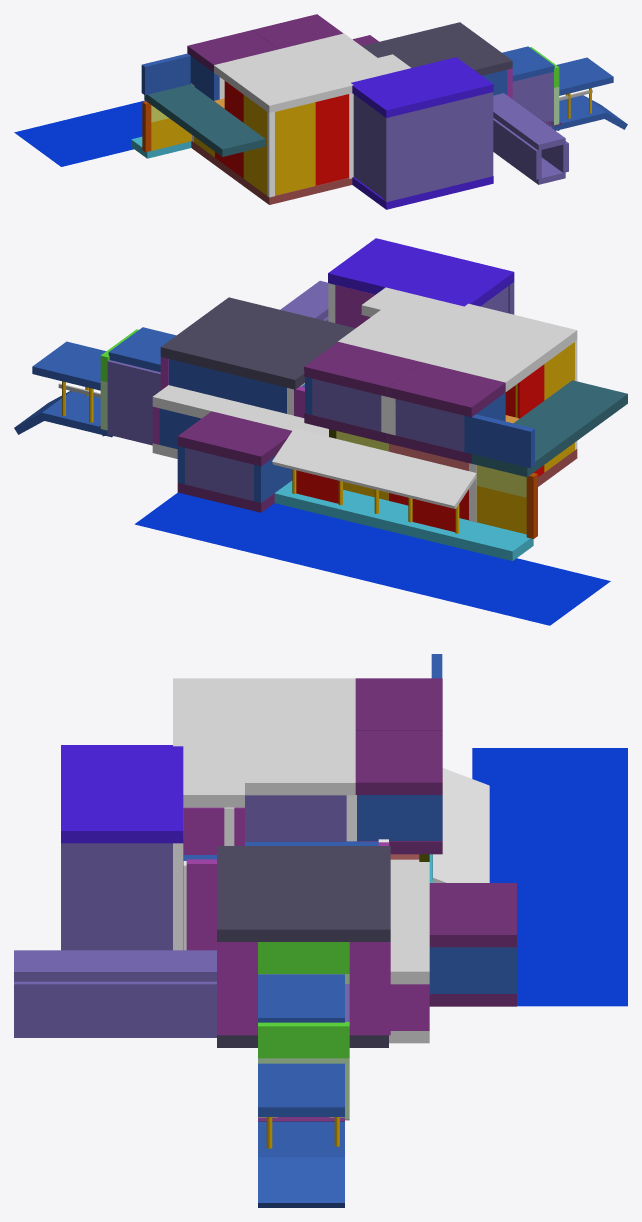
File: Blocky_MainRoomV2.fbx
3 renders of one model, top to bottom at view 1: azimuth 30°, elevation 25°; view 2: azimuth 150°, elevation 25°; view 3: azimuth 270°, elevation 25°, orthographic. The views are drawn at different scales.
Visible parts, largest first — view 1: Cube.630, Cube.638, Plane.007, Cube.286, Cube.421, Cube.445, Cube.444, Cube.633, Cube.635, Cube.637, MUR_3.017, Cube.477 (+38 smaller); view 2: Plane.007, Cube.630, Cube.421, Cube.256, Cube.638, Cube.247, Cube.286, Cube.445, Cube.409, Cube.444, Cube.448, MUR_3.017 (+24 smaller); view 3: Plane.007, Cube.630, Cube.421, Cube.638, Cube.409, Cube.444, Cube.256, Cube.439, Cube.438, Cube.448, Cube.471, Cube.491 (+28 smaller).
Boxes of the visible parts, left/top/right/bottom form: Cube.630: left=214, top=33, right=410, bottom=112; Cube.638: left=351, top=57, right=493, bottom=117; Plane.007: left=14, top=100, right=145, bottom=166; Cube.286: left=144, top=84, right=265, bottom=156; Cube.421: left=362, top=22, right=512, bottom=75; Cube.445: left=187, top=30, right=277, bottom=72; Cube.444: left=252, top=14, right=343, bottom=49; Cube.633: left=383, top=105, right=439, bottom=146; Cube.635: left=383, top=161, right=439, bottom=202; Cube.637: left=383, top=133, right=439, bottom=174; MUR_3.017: left=141, top=53, right=190, bottom=95; Cube.477: left=440, top=92, right=493, bottom=133; Plane.007: left=134, top=492, right=610, bottom=625; Cube.630: left=337, top=287, right=577, bottom=391; Cube.421: left=160, top=297, right=355, bottom=389; Cube.256: left=272, top=428, right=476, bottom=508; Cube.638: left=328, top=238, right=514, bottom=306; Cube.247: left=274, top=480, right=533, bottom=560; Cube.286: left=471, top=380, right=627, bottom=477; Cube.445: left=388, top=362, right=505, bottom=417; Cube.409: left=177, top=411, right=291, bottom=466; Cube.444: left=304, top=342, right=421, bottom=396; Cube.448: left=152, top=385, right=328, bottom=436; MUR_3.017: left=471, top=414, right=534, bottom=468; Plane.007: left=472, top=748, right=627, bottom=1006; Cube.630: left=173, top=678, right=355, bottom=807; Cube.421: left=217, top=846, right=390, bottom=941; Cube.638: left=61, top=745, right=183, bottom=843; Cube.409: left=429, top=883, right=516, bottom=947; Cube.444: left=355, top=730, right=442, bottom=794; Cube.256: left=432, top=768, right=489, bottom=882; Cube.439: left=14, top=981, right=115, bottom=1030; Cube.438: left=115, top=981, right=216, bottom=1030; Cube.448: left=390, top=859, right=429, bottom=984; Cube.471: left=71, top=843, right=172, bottom=889; Cube.491: left=245, top=795, right=346, bottom=841.
Size of the model in its own units: 10596 by 2746 by 6831.
